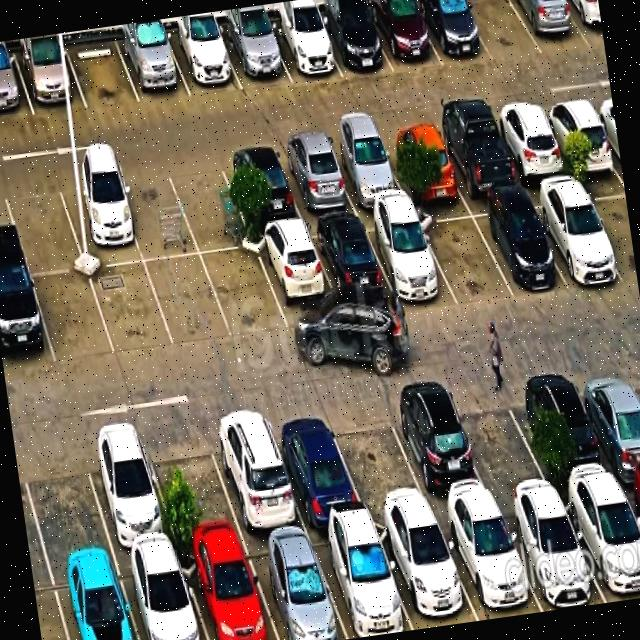empty: (27, 455, 109, 579), (158, 444, 235, 560), (341, 421, 421, 528), (462, 392, 534, 504), (430, 211, 504, 309), (38, 272, 108, 366), (126, 161, 190, 263), (94, 256, 162, 352), (8, 186, 78, 276), (181, 152, 246, 248), (207, 244, 273, 336), (152, 251, 216, 338), (70, 25, 132, 113), (464, 0, 526, 57)
occupied: (214, 438, 298, 556), (399, 402, 477, 518), (92, 457, 172, 570), (287, 432, 359, 550), (392, 525, 472, 631), (456, 513, 532, 622), (528, 374, 598, 492), (327, 531, 402, 640), (548, 185, 618, 298), (522, 503, 593, 613), (260, 542, 339, 640), (378, 210, 448, 316), (64, 164, 136, 264), (491, 195, 558, 302), (190, 552, 270, 640), (448, 108, 514, 214), (391, 110, 456, 217), (324, 214, 389, 320), (262, 229, 331, 326), (580, 493, 640, 604), (224, 144, 296, 236), (553, 94, 616, 198), (502, 104, 564, 207), (587, 374, 640, 483), (127, 564, 202, 640), (55, 573, 139, 640), (122, 18, 184, 108), (336, 128, 396, 220), (286, 136, 346, 223), (174, 11, 232, 95), (225, 4, 282, 88), (275, 0, 332, 84), (322, 0, 383, 77), (19, 32, 76, 112), (0, 279, 48, 370), (374, 0, 432, 70), (424, 0, 480, 63), (511, 0, 570, 44), (0, 40, 23, 120)
